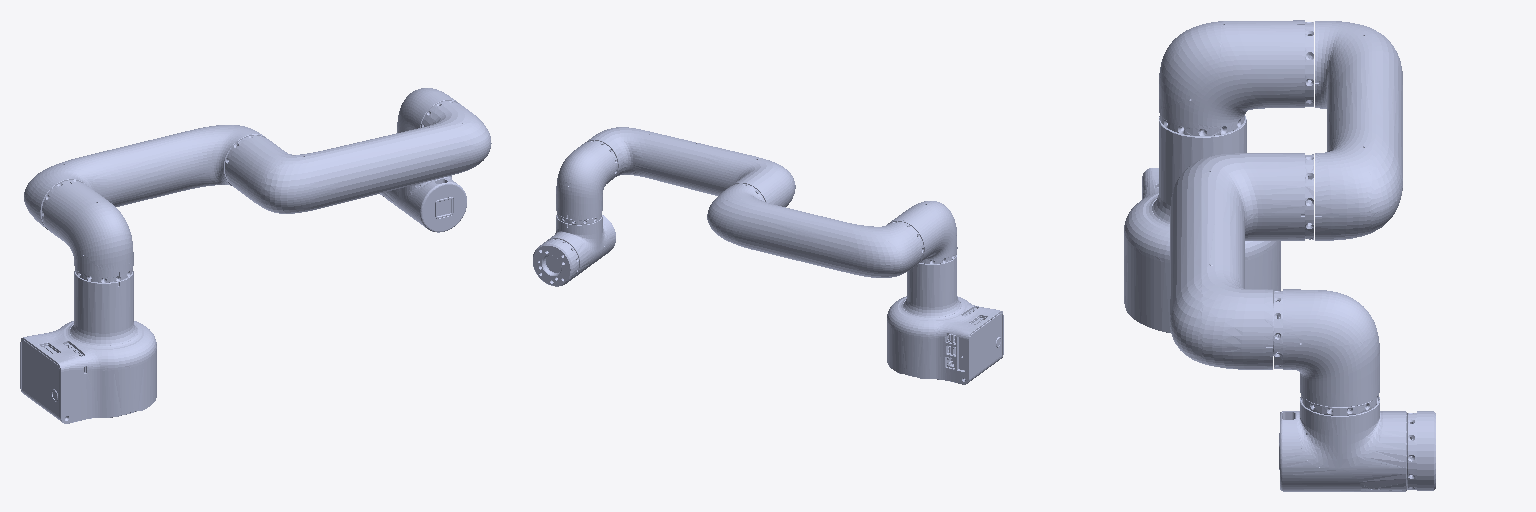
URDF robot description (myCobot_Pro_600_2):
<?xml version="1.0" encoding="utf-8"?>
<!-- This URDF was automatically created by SolidWorks to URDF Exporter! Originally created by [author] ([email redacted]) 
     Commit Version: 1.6.0-4-g7f85cfe  Build Version: 1.6.7995.38578
     For more information, please see http://wiki.ros.org/sw_urdf_exporter -->
<robot
  name="myCobot_Pro_600_2">
  <link
    name="base_link">
    <inertial>
      <origin
        xyz="-0.00686520814315619 0.000220586185388235 0.079661882657588"
        rpy="0 0 0" />
      <mass
        value="0.673123005831372" />
      <inertia
        ixx="0.00161223402097559"
        ixy="-8.96962230351071E-06"
        ixz="6.84296471511656E-05"
        iyy="0.00151944839574175"
        iyz="-3.73538253354811E-07"
        izz="0.000947787978876992" />
    </inertial>
    <visual>
      <origin
        xyz="0 0 0"
        rpy="0 0 0" />
      <geometry>
        <mesh
          filename="package://lab4_grp/meshes/base_link.STL" />
      </geometry>
      <material
        name="">
        <color
          rgba="0.792156862745098 0.819607843137255 0.933333333333333 1" />
      </material>
    </visual>
    <collision>
      <origin
        xyz="0 0 0"
        rpy="0 0 0" />
      <geometry>
        <mesh
          filename="package://lab4_grp/meshes/base_link.STL" />
      </geometry>
    </collision>
  </link>
  <link
    name="Link_1">
    <inertial>
      <origin
        xyz="-2.14323116887012E-06 0.0313146383726752 0.202095960172596"
        rpy="0 0 0" />
      <mass
        value="0.231311372473455" />
      <inertia
        ixx="0.000351100235065535"
        ixy="7.26398072626063E-09"
        ixz="6.71014329454715E-09"
        iyy="0.000227650534449644"
        iyz="-5.36372580826706E-05"
        izz="0.00033273077164134" />
    </inertial>
    <visual>
      <origin
        xyz="0 0 0"
        rpy="0 0 0" />
      <geometry>
        <mesh
          filename="package://lab4_grp/meshes/Link_1.STL" />
      </geometry>
      <material
        name="">
        <color
          rgba="0.792156862745098 0.819607843137255 0.933333333333333 1" />
      </material>
    </visual>
    <collision>
      <origin
        xyz="0 0 0"
        rpy="0 0 0" />
      <geometry>
        <mesh
          filename="package://lab4_grp/meshes/Link_1.STL" />
      </geometry>
    </collision>
  </link>
  <joint
    name="Joint_1"
    type="revolute">
    <origin
      xyz="0 0 0"
      rpy="0 0 0" />
    <parent
      link="base_link" />
    <child
      link="Link_1" />
    <axis
      xyz="0 0 1" />
    <limit
      lower="-3.1416"
      upper="3.1416"
      effort="0"
      velocity="0" />
  </joint>
  <link
    name="Link_2">
    <inertial>
      <origin
        xyz="1.09257943239007E-07 -0.124990217997598 0.127235275166276"
        rpy="0 0 0" />
      <mass
        value="0.465899635413124" />
      <inertia
        ixx="0.00332030173990806"
        ixy="-2.11072209045705E-07"
        ixz="-9.26173377118401E-09"
        iyy="0.000294118677929919"
        iyz="6.21757504782943E-08"
        izz="0.00339597156094604" />
    </inertial>
    <visual>
      <origin
        xyz="0 0 0"
        rpy="0 0 0" />
      <geometry>
        <mesh
          filename="package://lab4_grp/meshes/Link_2.STL" />
      </geometry>
      <material
        name="">
        <color
          rgba="0.792156862745098 0.819607843137255 0.933333333333333 1" />
      </material>
    </visual>
    <collision>
      <origin
        xyz="0 0 0"
        rpy="0 0 0" />
      <geometry>
        <mesh
          filename="package:/meshes/Link_2.STL" />
      </geometry>
    </collision>
  </link>
  <joint
    name="Joint_2"
    type="revolute">
    <origin
      xyz="0 0 0.2093"
      rpy="-1.5708 1.5708 0" />
    <parent
      link="Link_1" />
    <child
      link="Link_2" />
    <axis
      xyz="0 0 1" />
    <limit
      lower="-3.1416"
      upper="3.1416"
      effort="0"
      velocity="0" />
  </joint>
  <link
    name="Link_3">
    <inertial>
      <origin
        xyz="-0.000197178255285468 -0.127786781170222 0.0152098970793048"
        rpy="0 0 0" />
      <mass
        value="0.609306197803538" />
      <inertia
        ixx="0.00397667300980394"
        ixy="-1.32490637708539E-05"
        ixz="-2.68960232560161E-07"
        iyy="0.00034290444380016"
        iyz="-0.000162869581582835"
        izz="0.00404313219455095" />
    </inertial>
    <visual>
      <origin
        xyz="0 0 0"
        rpy="0 0 0" />
      <geometry>
        <mesh
          filename="package://lab4_grp/meshes/Link_3.STL" />
      </geometry>
      <material
        name="">
        <color
          rgba="0.792156862745098 0.819607843137255 0.933333333333333 1" />
      </material>
    </visual>
    <collision>
      <origin
        xyz="0 0 0"
        rpy="0 0 0" />
      <geometry>
        <mesh
          filename="package://lab4_grp/meshes/Link_3.STL" />
      </geometry>
    </collision>
  </link>
  <joint
    name="Joint_3"
    type="revolute">
    <origin
      xyz="0 -0.25 0"
      rpy="0 0 0" />
    <parent
      link="Link_2" />
    <child
      link="Link_3" />
    <axis
      xyz="0 0 1" />
    <limit
      lower="-2.618"
      upper="2.618"
      effort="0"
      velocity="0" />
  </joint>
  <link
    name="Link_4">
    <inertial>
      <origin
        xyz="-0.000456044465310252 0.0192935976470826 -0.00352473908486582"
        rpy="0 0 0" />
      <mass
        value="0.142403201382116" />
      <inertia
        ixx="7.58379540050527E-05"
        ixy="6.23901181624329E-07"
        ixz="1.05177945773902E-07"
        iyy="9.54184363596864E-05"
        iyz="-5.42656466090266E-06"
        izz="6.44021708531193E-05" />
    </inertial>
    <visual>
      <origin
        xyz="0 0 0"
        rpy="0 0 0" />
      <geometry>
        <mesh
          filename="package://lab4_grp/meshes/Link_4.STL" />
      </geometry>
      <material
        name="">
        <color
          rgba="0.792156862745098 0.819607843137255 0.933333333333333 1" />
      </material>
    </visual>
    <collision>
      <origin
        xyz="0 0 0"
        rpy="0 0 0" />
      <geometry>
        <mesh
          filename="package://lab4_grp/meshes/Link_4.STL" />
      </geometry>
    </collision>
  </link>
  <joint
    name="Joint_4"
    type="revolute">
    <origin
      xyz="0 -0.25 0.1095"
      rpy="0 0 -1.5708" />
    <parent
      link="Link_3" />
    <child
      link="Link_4" />
    <axis
      xyz="0 0 1" />
    <limit
      lower="-2.9671"
      upper="2.9471"
      effort="0"
      velocity="0" />
  </joint>
  <link
    name="Link_5">
    <inertial>
      <origin
        xyz="-0.000103730720420196 0.0205010365983091 -0.00233118904254859"
        rpy="0 0 0" />
      <mass
        value="0.20912123072067" />
      <inertia
        ixx="0.000117850051515266"
        ixy="3.51921881801405E-07"
        ixz="1.30797771229327E-07"
        iyy="0.000140702156886606"
        iyz="-1.71382704926919E-05"
        izz="0.000110784178232163" />
    </inertial>
    <visual>
      <origin
        xyz="0 0 0"
        rpy="0 0 0" />
      <geometry>
        <mesh
          filename="package://lab4_grp/meshes/Link_5.STL" />
      </geometry>
      <material
        name="">
        <color
          rgba="0.792156862745098 0.819607843137255 0.933333333333333 1" />
      </material>
    </visual>
    <collision>
      <origin
        xyz="0 0 0"
        rpy="0 0 0" />
      <geometry>
        <mesh
          filename="package://lab4_grp/meshes/Link_5.STL" />
      </geometry>
    </collision>
  </link>
  <joint
    name="Joint_5"
    type="revolute">
    <origin
      xyz="0 0.107 0"
      rpy="1.5708 0 -3.1416" />
    <parent
      link="Link_4" />
    <child
      link="Link_5" />
    <axis
      xyz="0 0 1" />
    <limit
      lower="-2.9322"
      upper="2.9322"
      effort="0"
      velocity="0" />
  </joint>
  <link
    name="Link_6">
    <inertial>
      <origin
        xyz="0.00200655851688581 -0.434920937897741 -0.135152209141664"
        rpy="0 0 0" />
      <mass
        value="2.34082822338267" />
      <inertia
        ixx="0.170461500900025"
        ixy="0.00152428262755622"
        ixz="0.000233200413045639"
        iyy="0.00989982885966581"
        iyz="-0.0150480246799201"
        izz="0.163317917743489" />
    </inertial>
    <visual>
      <origin
        xyz="0 0 0"
        rpy="0 0 0" />
      <geometry>
        <mesh
          filename="package://lab4_grp/meshes/Link_6.STL" />
      </geometry>
      <material
        name="">
        <color
          rgba="1 1 1 1" />
      </material>
    </visual>
    <collision>
      <origin
        xyz="0 0 0"
        rpy="0 0 0" />
      <geometry>
        <mesh
          filename="package://lab4_grp/meshes/Link_6.STL" />
      </geometry>
    </collision>
  </link>
  <joint
    name="Joint_6"
    type="revolute">
    <origin
      xyz="0 0.076497 0"
      rpy="1.5708 0 3.1416" />
    <parent
      link="Link_5" />
    <child
      link="Link_6" />
    <axis
      xyz="0 0 1" />
    <limit
      lower="-3.0369"
      upper="3.0369"
      effort="0"
      velocity="0" />
  </joint>
</robot>

--- Render facts (derived) ---
3 views of the same robot in one strip: view 1: azimuth 30°, elevation 25°; view 2: azimuth 150°, elevation 25°; view 3: azimuth 270°, elevation 25° (orthographic).
Robot: myCobot_Pro_600_2 — 7 links, 6 joints (6 revolute); root link base_link; default pose: every joint at zero.
Links seen in each view (by area): view 1: Link_3, base_link, Link_2, Link_1, Link_5, Link_4; view 2: Link_2, base_link, Link_3, Link_5, Link_4, Link_1; view 3: Link_3, Link_2, Link_1, Link_5, base_link, Link_4.
Boxes of the visible links, x1,y1,x2,y2 form: Link_3: [225, 102, 491, 213]; base_link: [20, 271, 156, 423]; Link_2: [24, 125, 265, 229]; Link_1: [42, 180, 133, 282]; Link_5: [380, 176, 466, 232]; Link_4: [397, 88, 459, 132]; Link_2: [707, 185, 921, 277]; base_link: [887, 255, 1003, 384]; Link_3: [585, 127, 795, 206]; Link_5: [533, 213, 615, 286]; Link_4: [556, 140, 617, 221]; Link_1: [888, 201, 957, 264]; Link_3: [1170, 153, 1313, 369]; Link_2: [1315, 21, 1402, 240]; Link_1: [1159, 20, 1313, 135]; Link_5: [1279, 395, 1435, 491]; base_link: [1124, 116, 1280, 332]; Link_4: [1274, 289, 1379, 410].
Bounding box of the posed robot: 0.6194 × 0.2487 × 0.245 m (x, y, z).
Meshes: 7 distinct files referenced, 6 mesh visuals loaded (6 binary STL); not drawn: 1 (file found but could not be loaded).